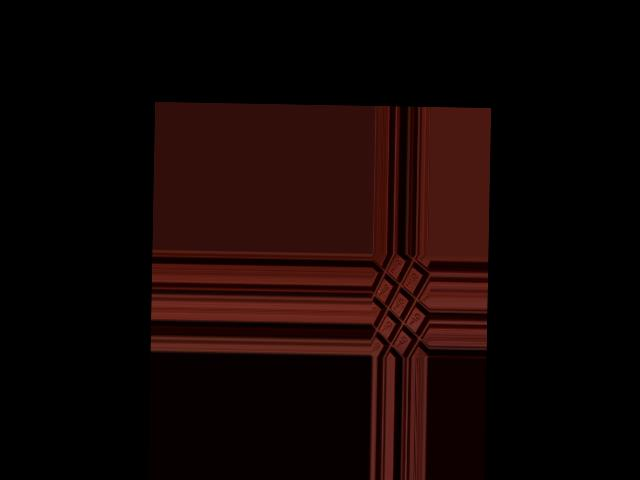chocolate: (372, 253, 431, 355)
